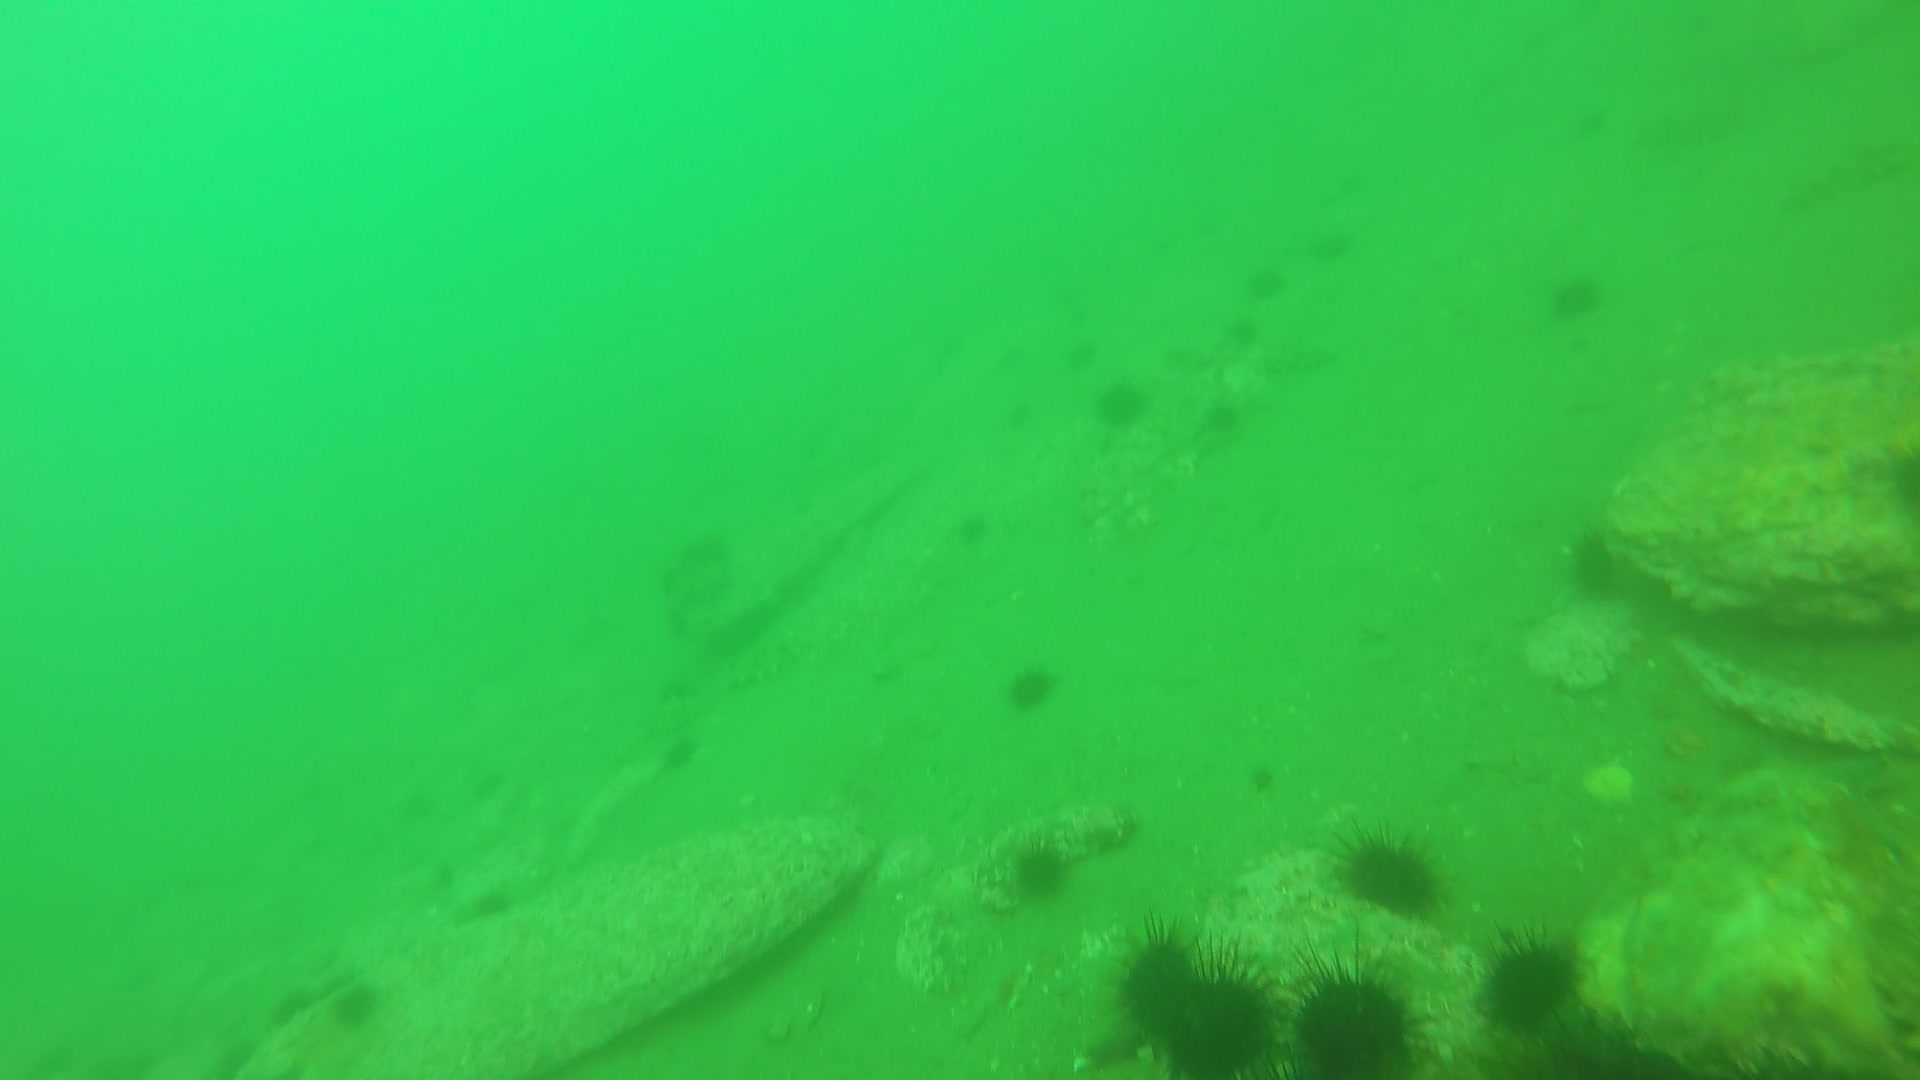echinus: (1284, 960, 1429, 1080), (1319, 814, 1456, 927), (1160, 967, 1276, 1079), (1477, 928, 1592, 1027), (1116, 926, 1207, 1023), (997, 831, 1075, 914), (1557, 527, 1642, 604), (1547, 272, 1609, 322), (328, 978, 385, 1030), (1007, 661, 1062, 712), (1100, 382, 1146, 431), (1244, 260, 1286, 303), (1309, 240, 1348, 268)
